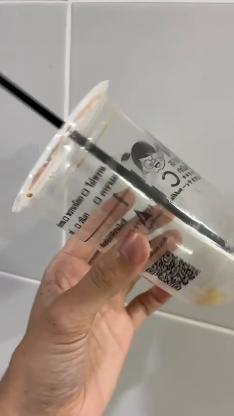Plastic Cup: (12, 77, 234, 317)
